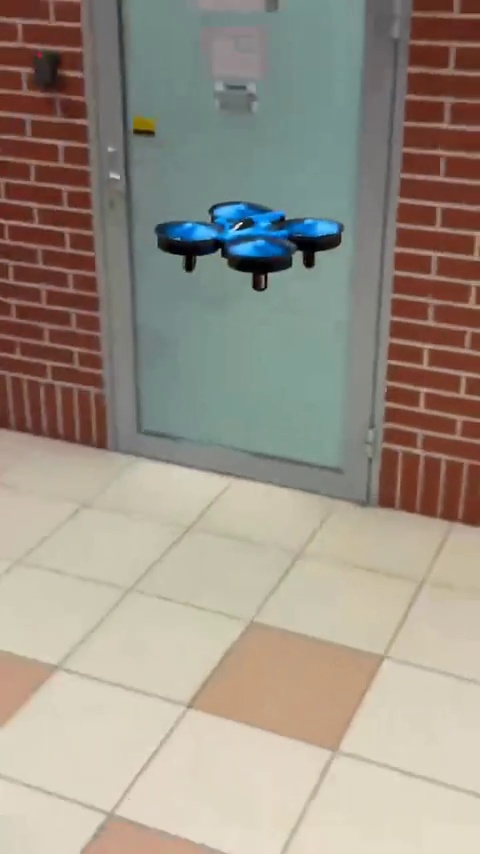drone: (155, 198, 343, 291)
